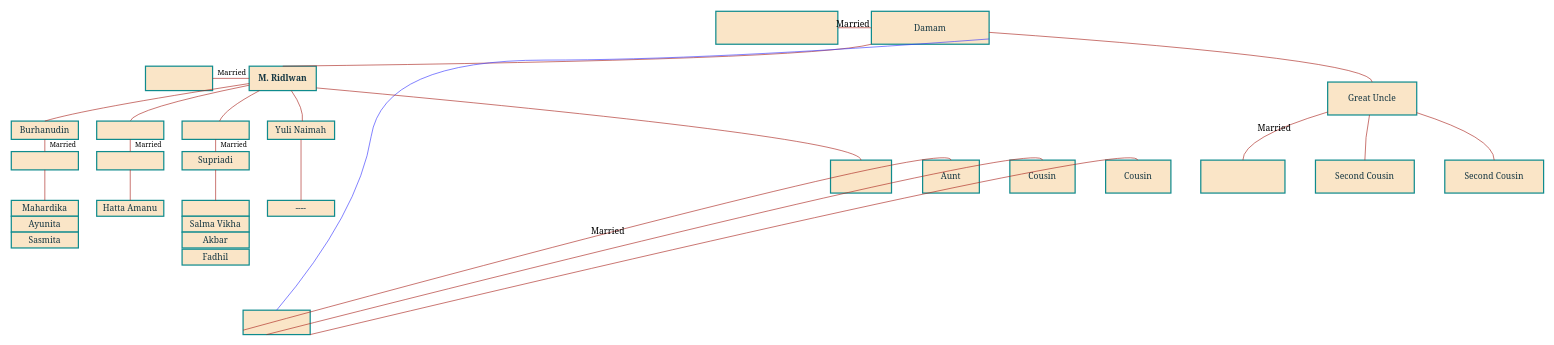
Some shapes in this 1554 by 345 pixel diagram are drawn without their labels. Each missing label, with the centre of its shape:
"Agus Syaifudin" belongs at [130,130].
"Badriah" belongs at [179,78].
"Great Aunt" belongs at [1242,176].
"Marini S." belongs at [130,160].
"Nur Hasanah" belongs at [215,130].
"Qomari" belongs at [276,322].
"Salman Farizi" belongs at [215,208].
"Supiatun" belongs at [776,27].
"Uncle" belongs at [861,176].
"Yuliana" belongs at [44,160].
